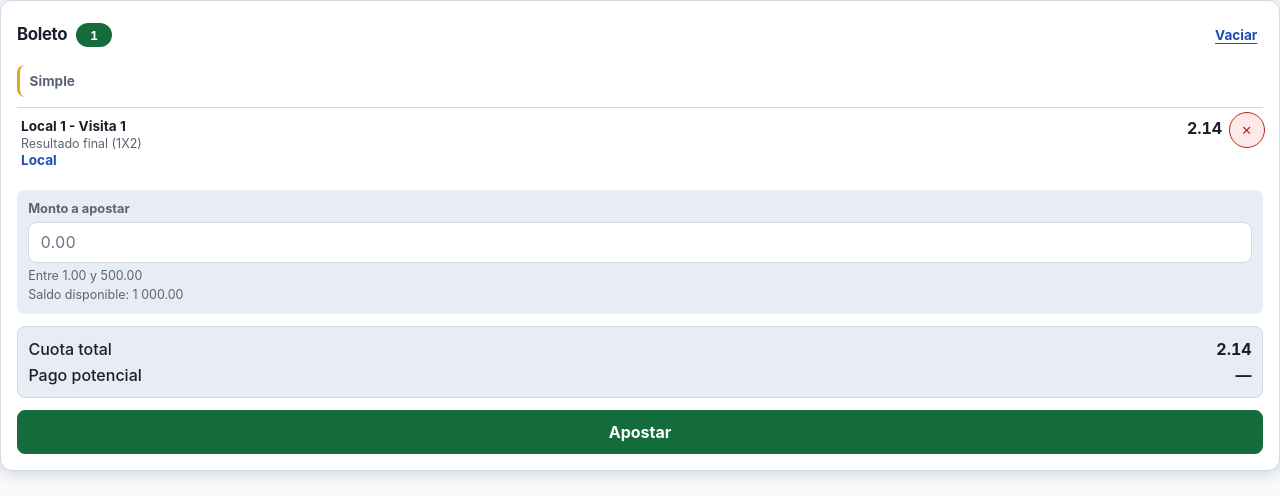
Scenario: BetSlipComponent › simple: muestra la selección, la cuota y calcula el pago potencial
In the field with id "stake": [640, 242] box [28,222,1252,263], type "10"
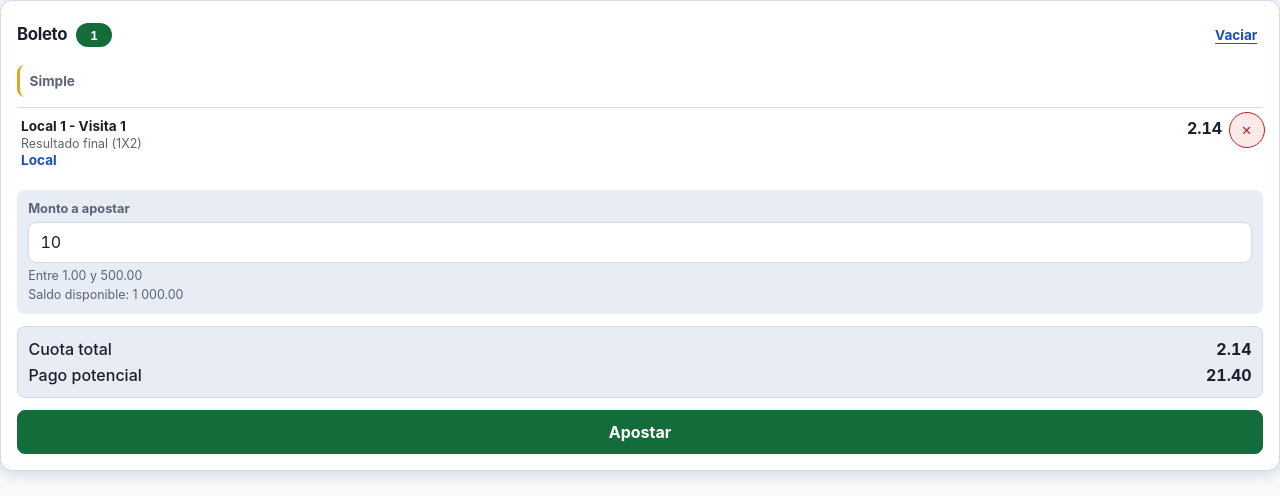
Expected: the text "Simple" is shown, [17,65,1263,97]
Expected: the text "Pago potencial 21.40" is shown, [28,362,1252,388]
